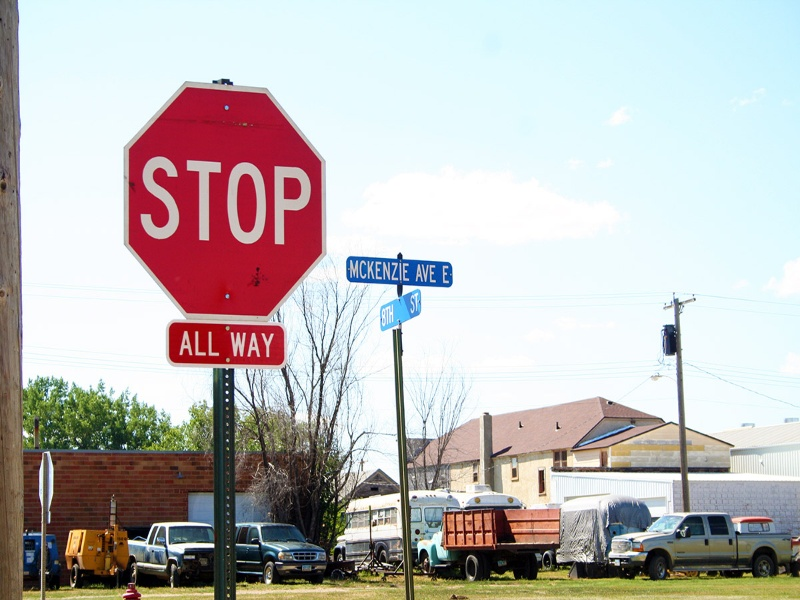stop sign: (120, 79, 338, 325)
